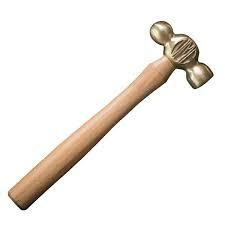hammer: (6, 17, 215, 211)
